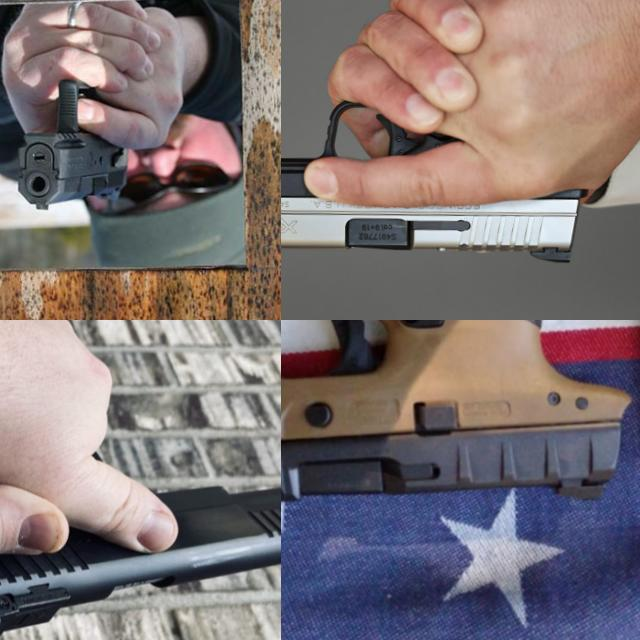handgun: (0, 320, 281, 640), (281, 0, 596, 272), (281, 320, 637, 530), (12, 68, 132, 211)
